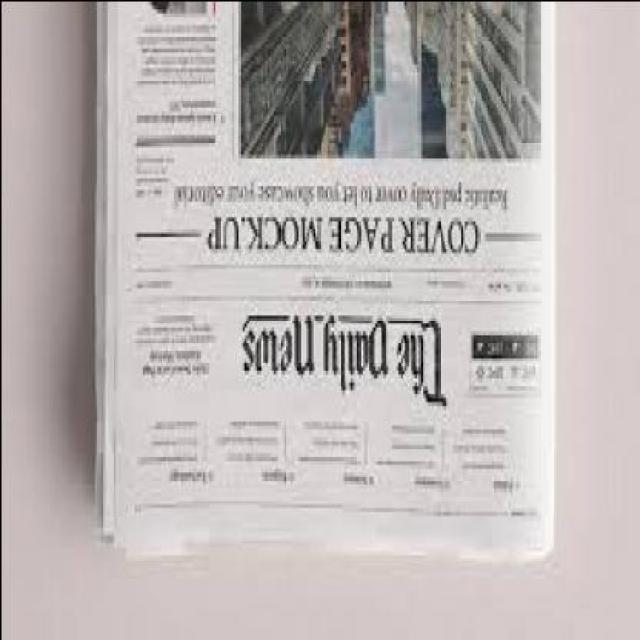PAPER: (93, 4, 555, 562)
